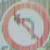Don't turn left: (3, 3, 49, 46)
